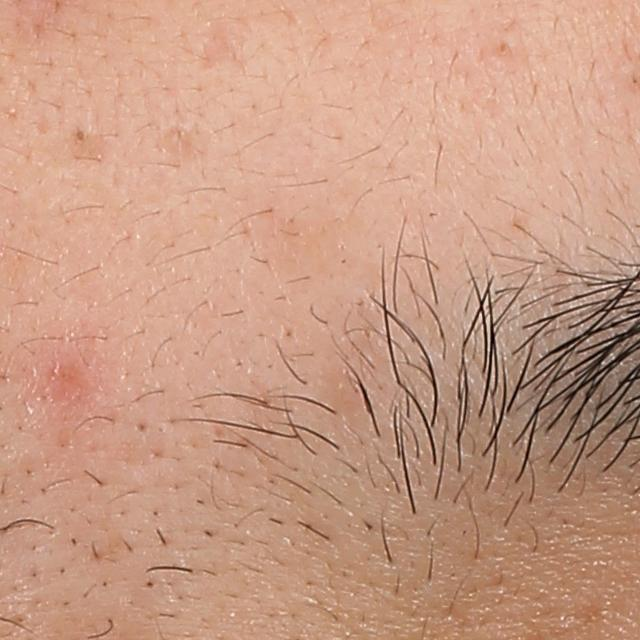atrophic_scar: (200, 15, 243, 74)
comedo: (63, 116, 98, 151), (494, 40, 512, 60)
